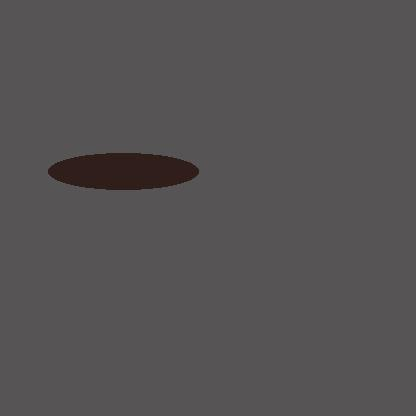pothole: (48, 153, 198, 189)
